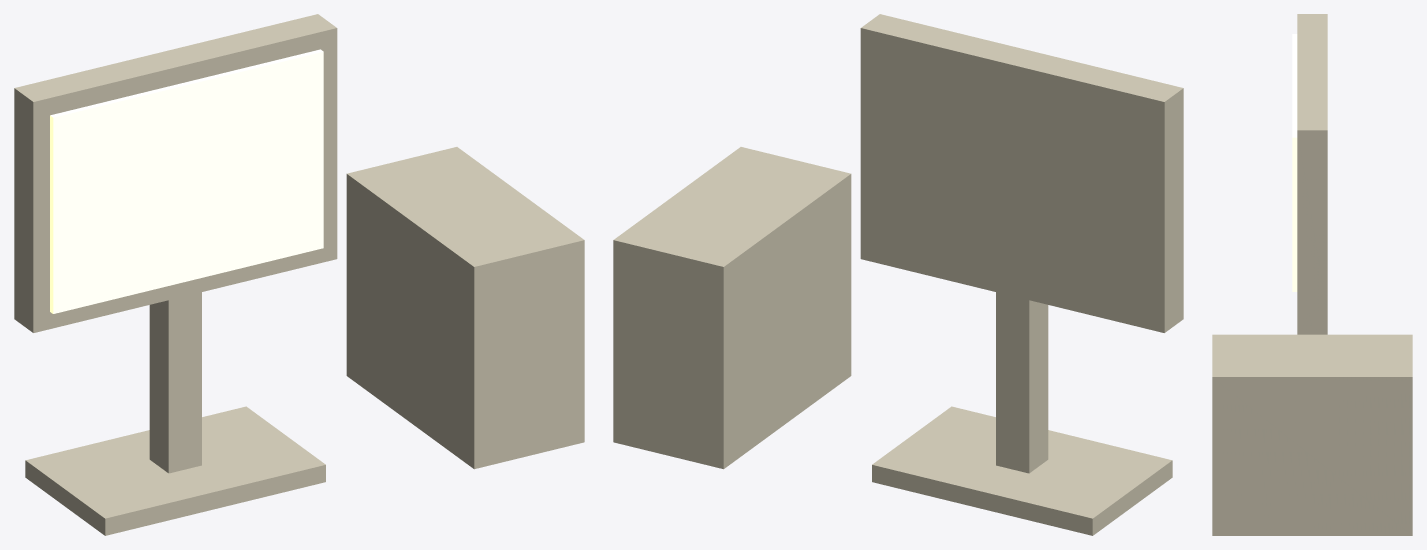
Rendered from computer8.glb.
3 renders of one model, left to right at view 1: azimuth 30°, elevation 25°; view 2: azimuth 150°, elevation 25°; view 3: azimuth 270°, elevation 25°, orthographic. The views are drawn at different scales.
Size of the model in its own units: 0.9 by 0.73 by 0.4.
